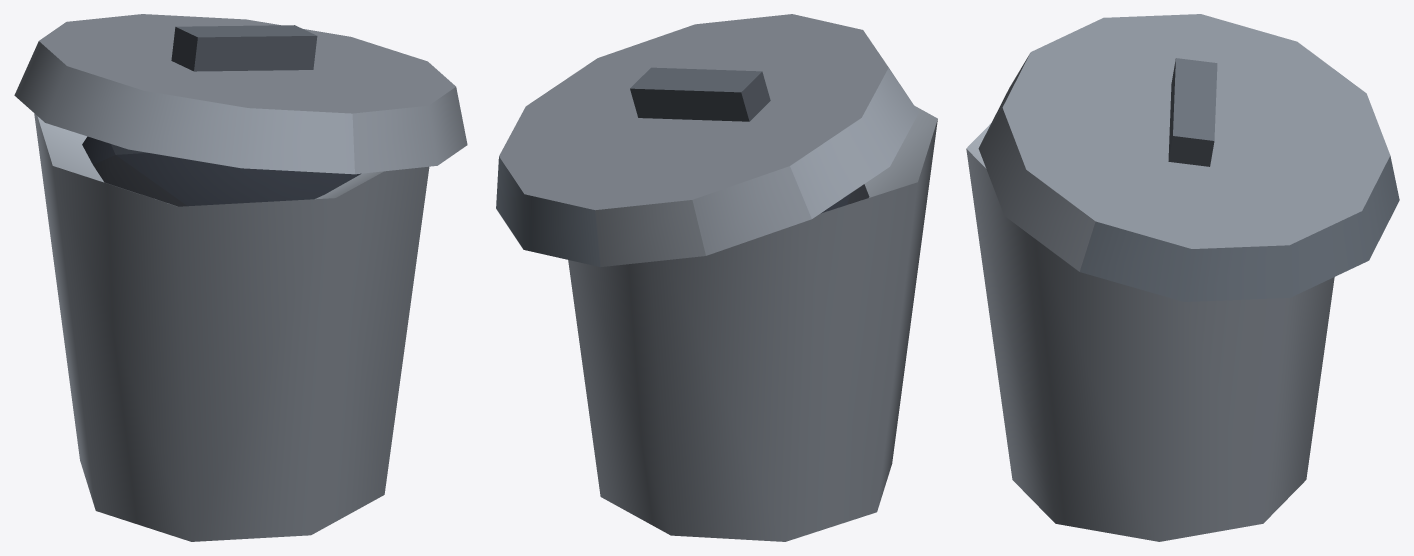
The model's file is trash_can_06_pacote.glb.
3 renders of one model, left to right at view 1: azimuth 30°, elevation 25°; view 2: azimuth 150°, elevation 25°; view 3: azimuth 270°, elevation 25°, orthographic. The views are drawn at different scales.
Parts seen in each view (by area): view 1: trash_can_06_pacote; view 2: trash_can_06_pacote; view 3: trash_can_06_pacote.
Boxes of the visible parts, x1,y1,x2,y2 form: trash_can_06_pacote: (14, 14, 467, 541); trash_can_06_pacote: (496, 14, 937, 541); trash_can_06_pacote: (966, 14, 1399, 541).
Size of the model in its own units: 1.15 by 1.21 by 1.16.
1 material, 1 textured.
